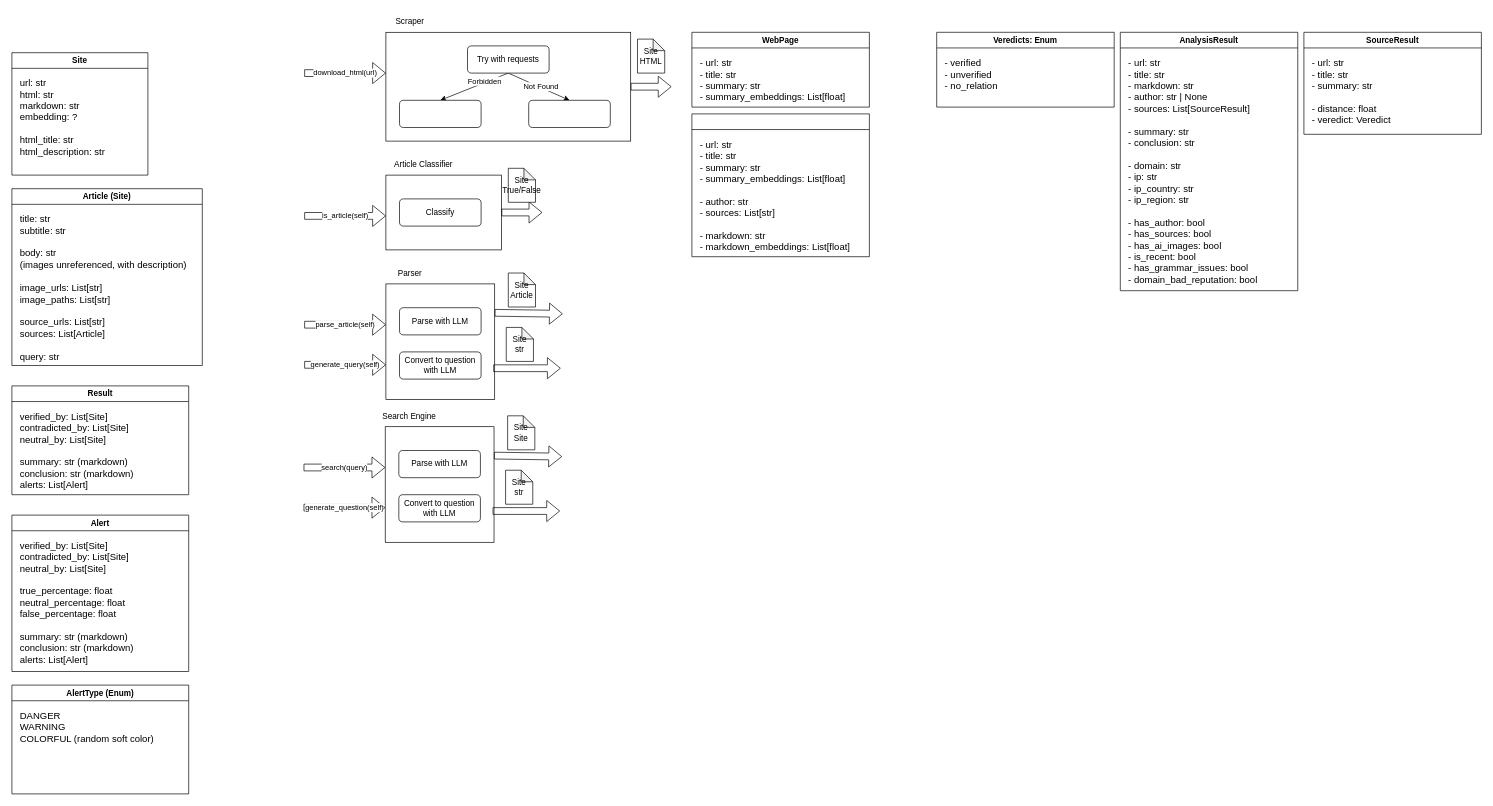
The diagram is 1493 pixels wide and 806 high, and some of its shapes have lost their labels. The centre of each missing label's shape, as x and y in pixels:
"Search on wayback machine (archive.org)" belongs at (x=569, y=114).
"Try with playwright" belongs at (x=440, y=114).
